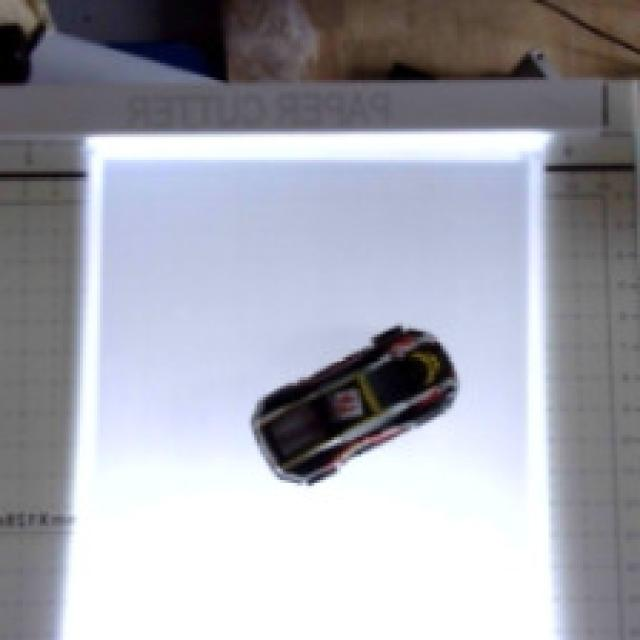Red Car: (222, 312, 494, 578)
